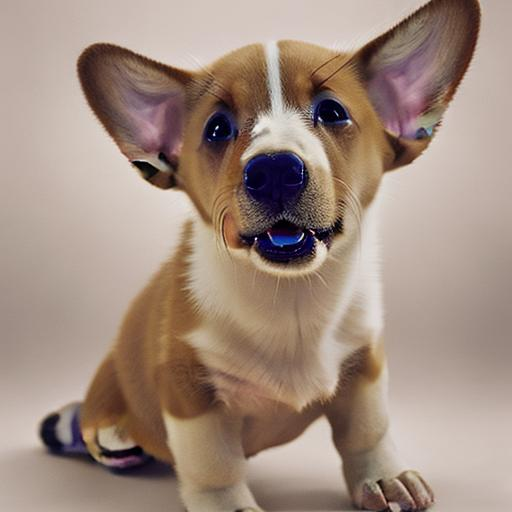eye: (308, 91, 355, 135), (203, 109, 239, 145)
